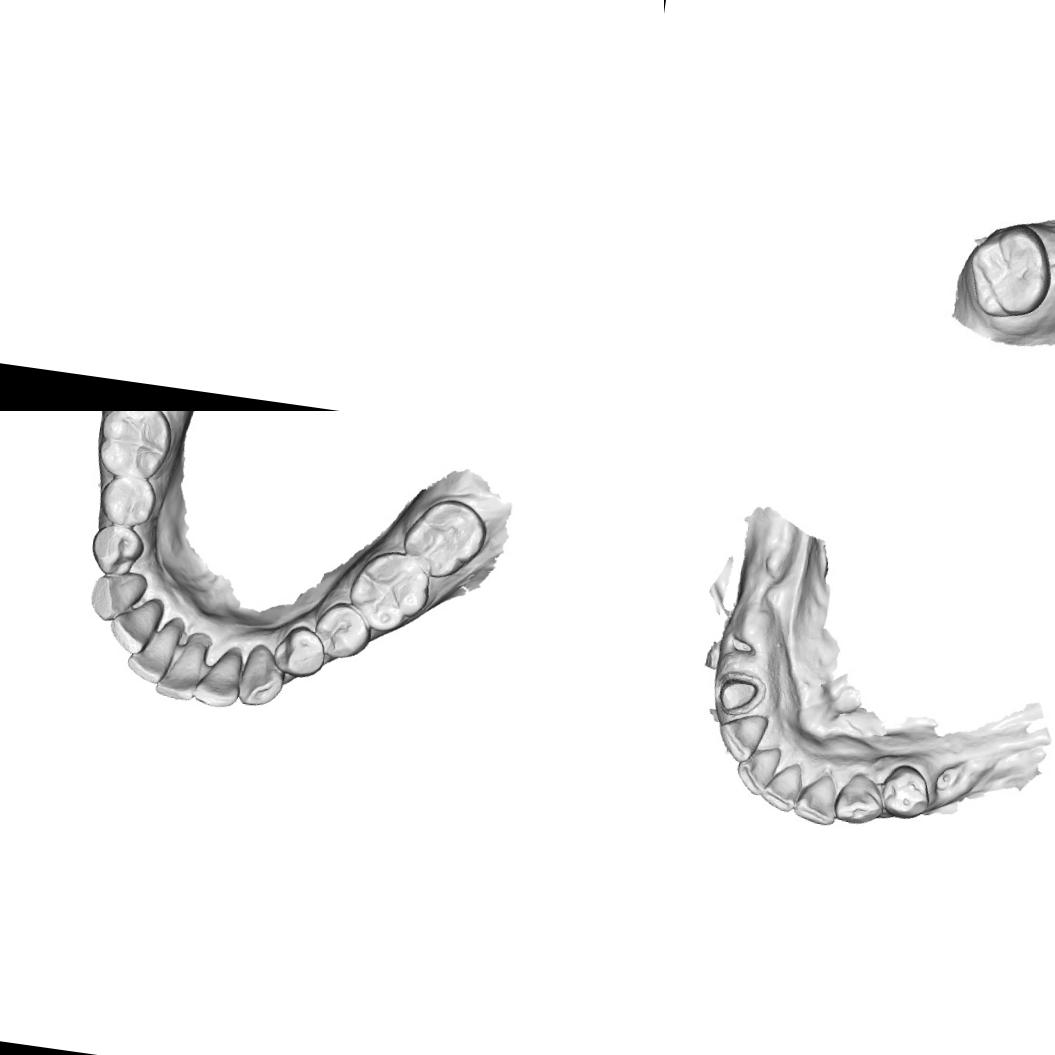canine: (86, 564, 150, 626), (235, 640, 289, 711), (831, 770, 888, 829)
crown: (714, 668, 768, 718)
incisor: (123, 614, 185, 687), (153, 626, 208, 704), (104, 592, 165, 659), (192, 643, 250, 712), (713, 708, 770, 766), (791, 770, 841, 828), (734, 742, 784, 800), (758, 758, 805, 816)
molar: (961, 215, 1055, 326), (397, 492, 492, 585), (343, 544, 435, 638), (92, 411, 176, 481)
premolar: (308, 598, 374, 664), (879, 750, 934, 823), (269, 621, 329, 682), (94, 474, 159, 530), (86, 520, 148, 578)
